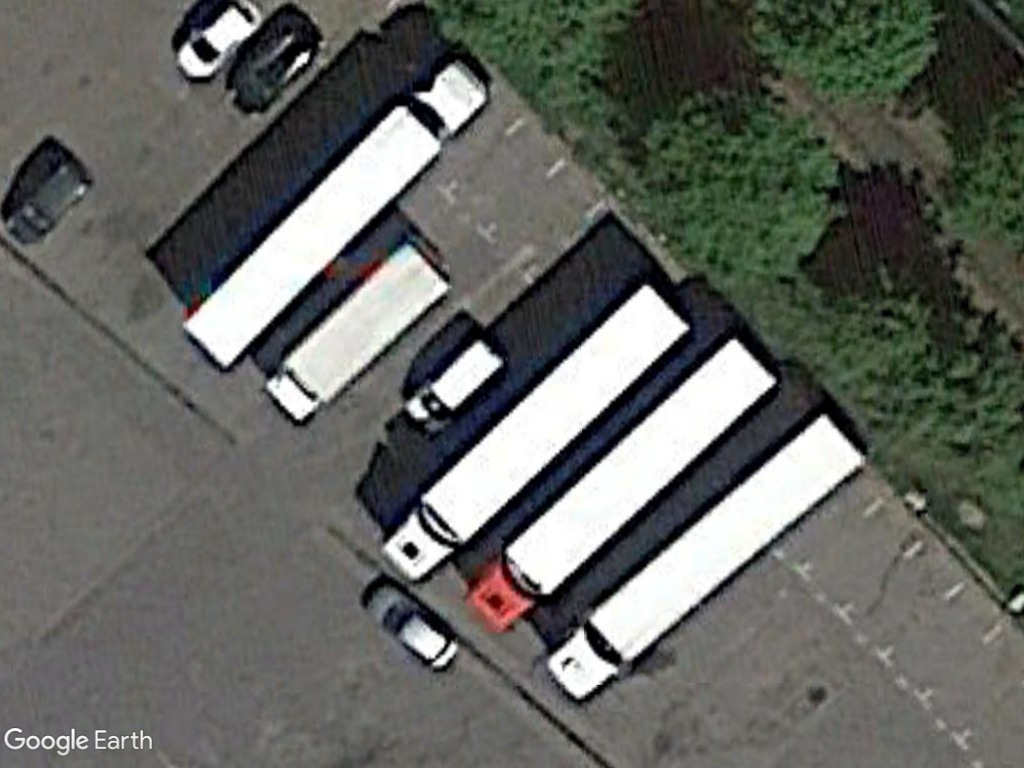car: (363, 574, 463, 671), (169, 0, 266, 79)
longvehicle: (174, 57, 490, 380), (539, 408, 873, 710), (463, 329, 787, 634), (378, 283, 699, 587)
truck: (258, 236, 462, 434)
van: (403, 335, 509, 439)
